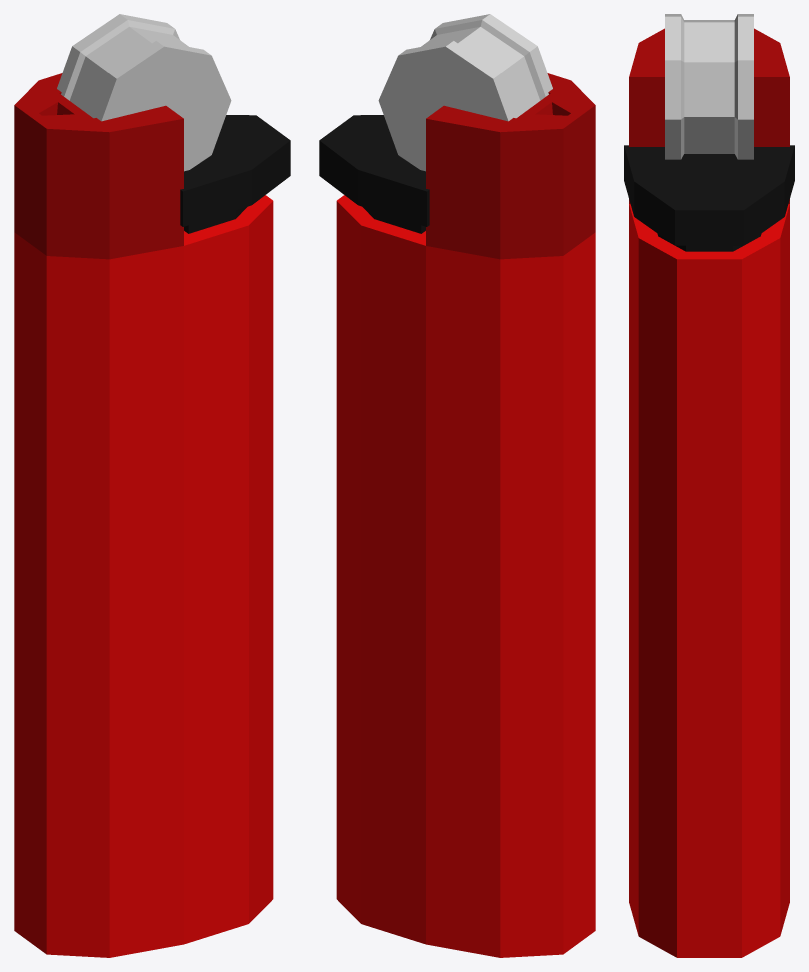
Rendered from Lighter_01.fbx.
3 renders of one model, left to right at view 1: azimuth 30°, elevation 25°; view 2: azimuth 150°, elevation 25°; view 3: azimuth 270°, elevation 25°, orthographic.
Visible parts, largest first — view 1: Lighter_01; view 2: Lighter_01; view 3: Lighter_01.
Boxes of the visible parts, box(x1,y1,x2,y2) form: Lighter_01: box(14, 14, 290, 957); Lighter_01: box(319, 14, 595, 957); Lighter_01: box(624, 14, 794, 957).
Size of the model in its own units: 7.95 by 27.68 by 4.84.
